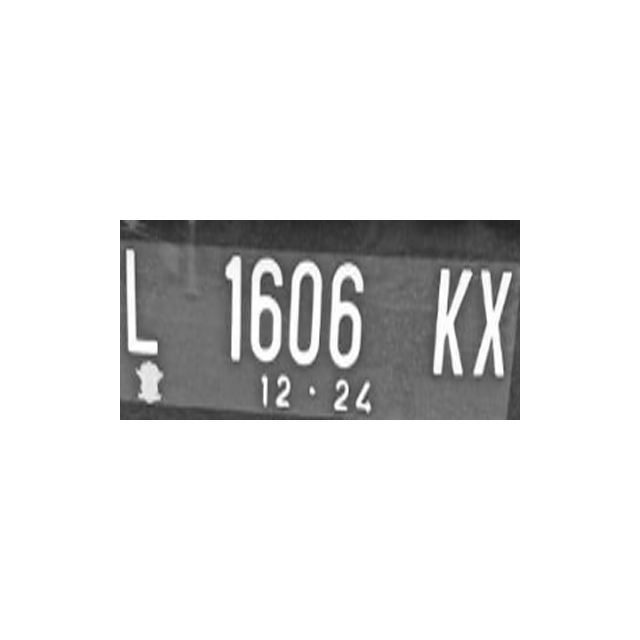contain: (432, 258, 473, 383), (472, 257, 513, 382), (124, 239, 159, 361), (211, 246, 246, 368), (247, 247, 282, 369), (288, 248, 323, 370), (328, 254, 363, 376)
